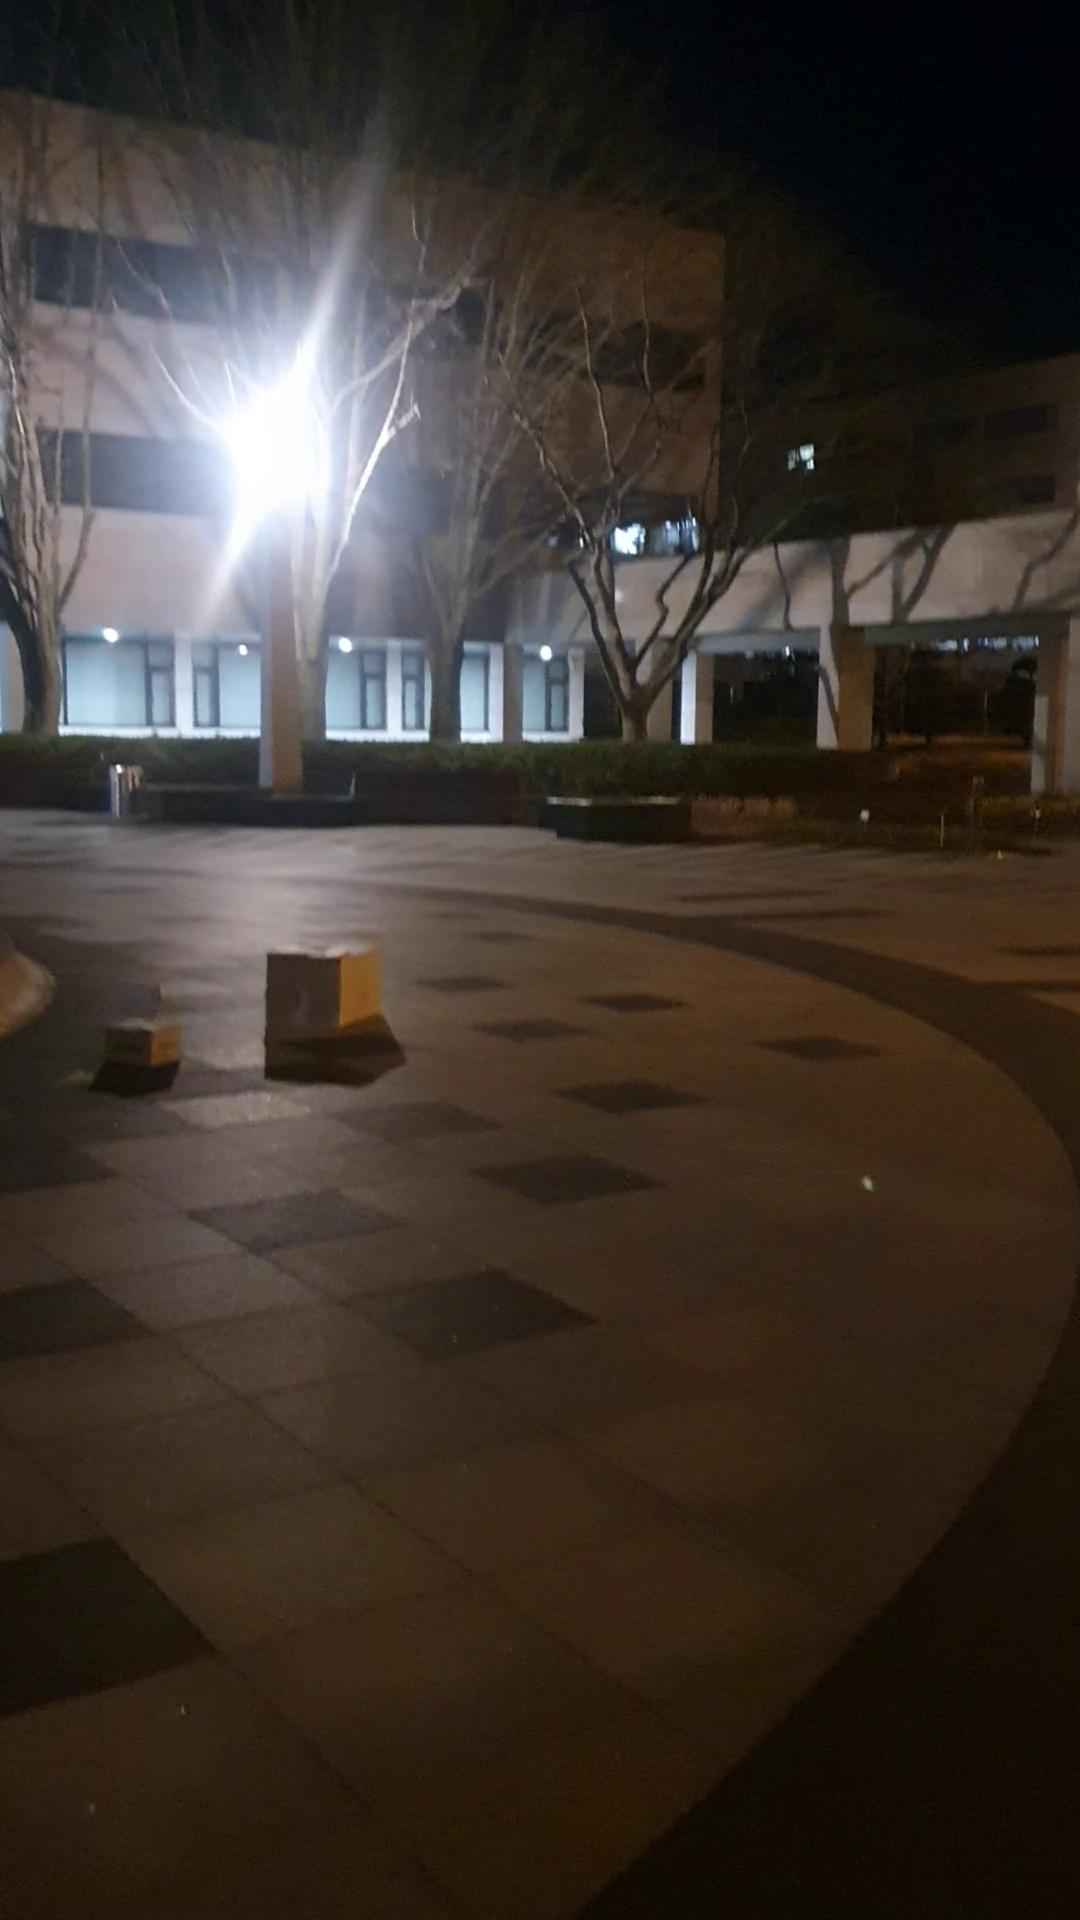Box: (261, 920, 385, 1065), (102, 1007, 208, 1083)
